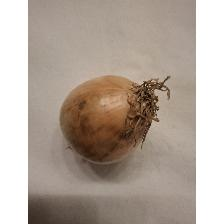Zwiebel: (57, 71, 173, 167)
